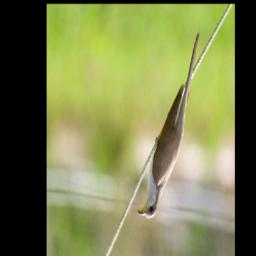Cuckoo: (136, 26, 202, 220)
